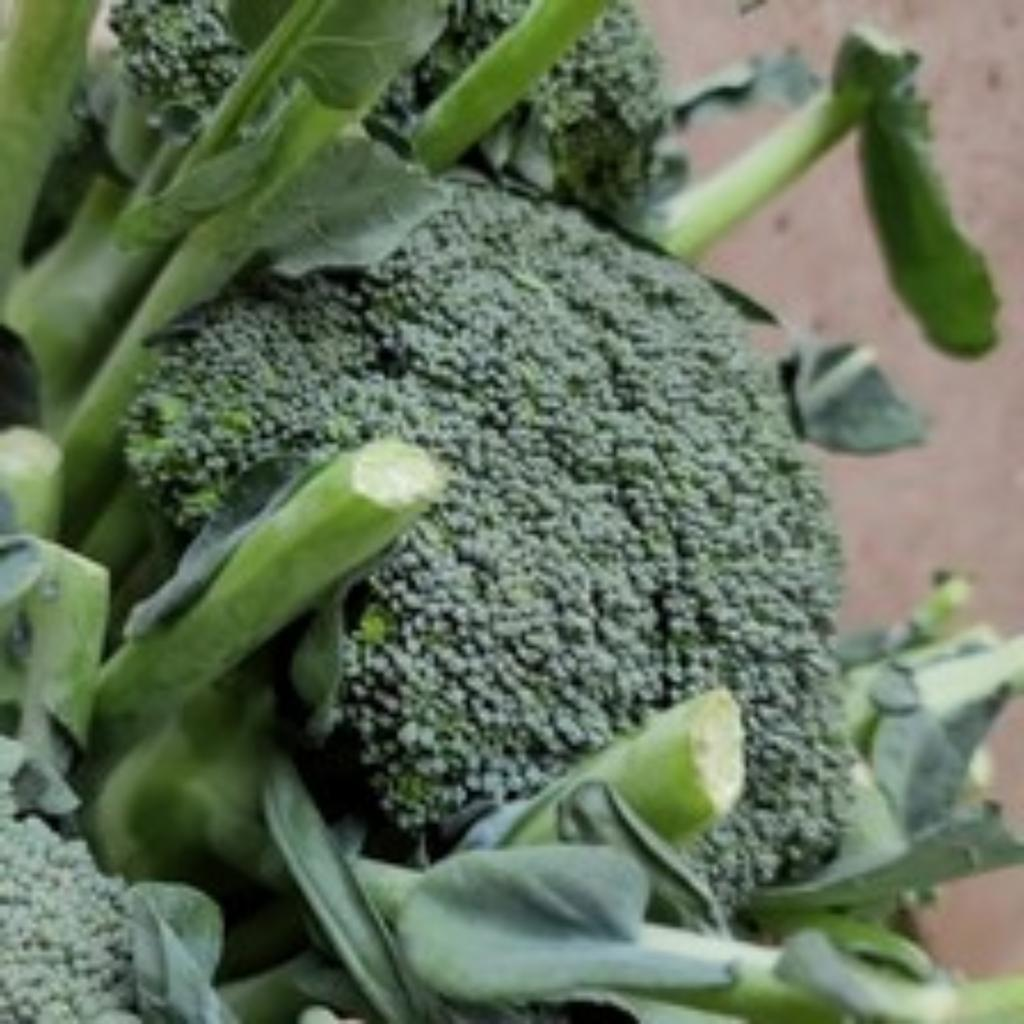Broccoli: (128, 182, 850, 899), (128, 182, 848, 899)
